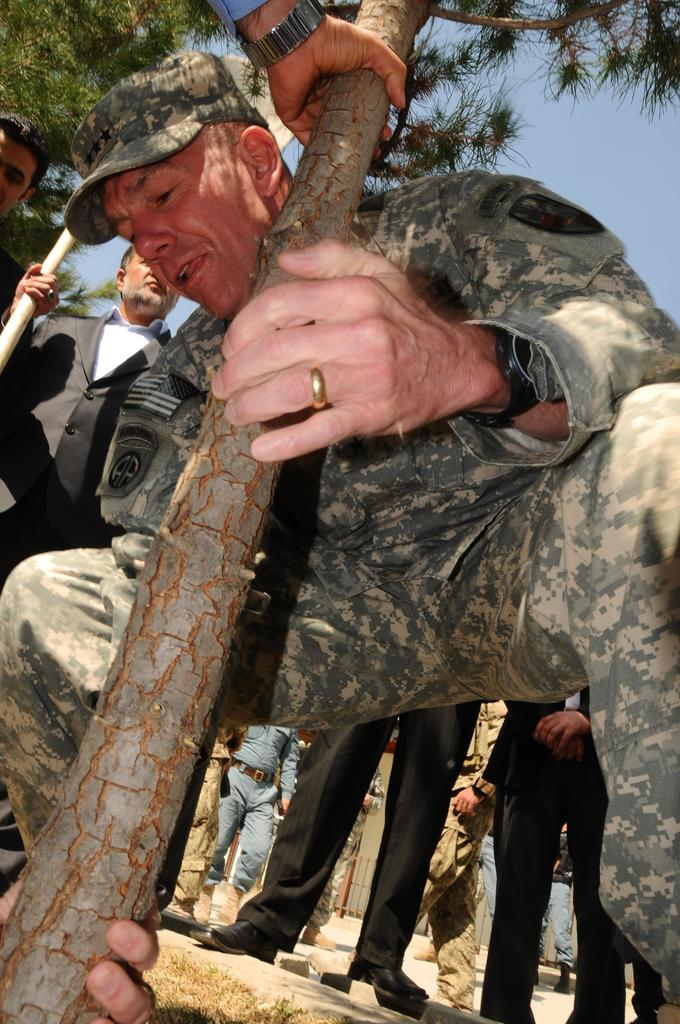Tree: (0, 0, 679, 1023), (0, 0, 233, 268)
